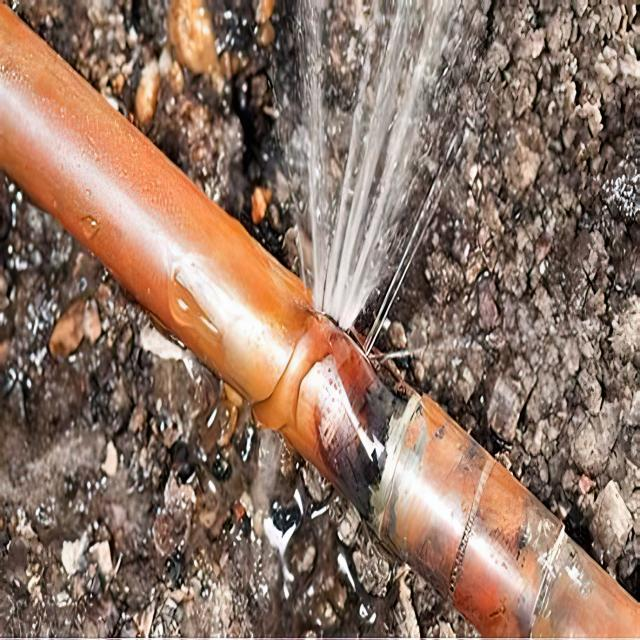leak: (285, 0, 526, 368)
